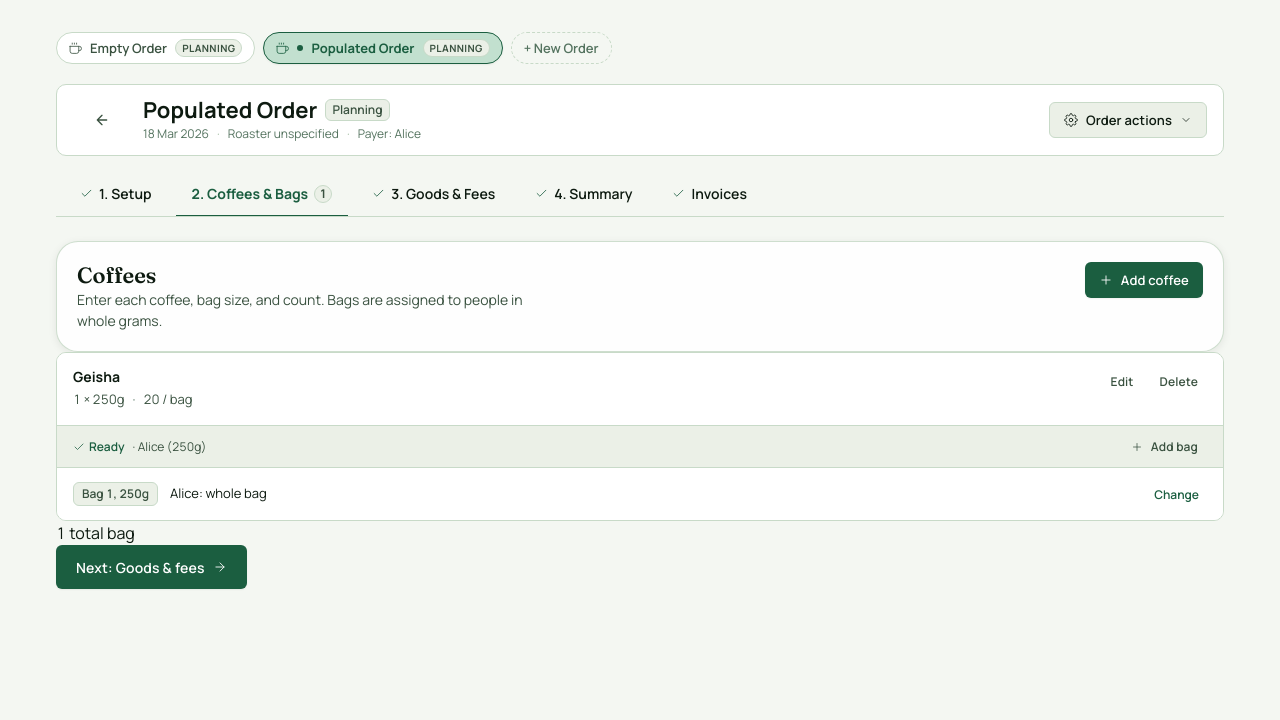
OrderPage component tests › BUG-ORD-12: falls back from invoices tab to coffees tab when switching to an empty order
Click the tab with class "order-section-tab" showing "Invoices" at (710, 195), box [656,172,763,217]
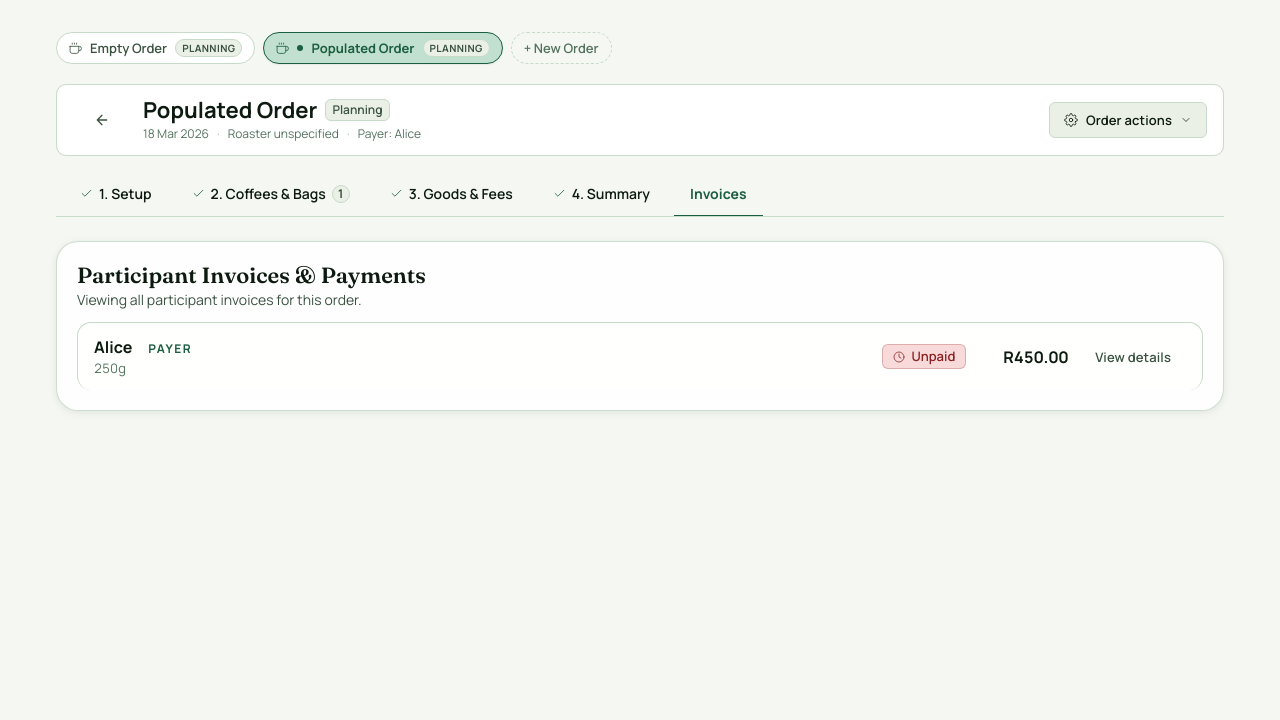
Expected: the tab with class "order-section-tab" reads "Invoices", [674,172,763,216]
Click the tab with class "order-tab-chip" showing "Empty Order Planning" at (156, 48), box [56,32,256,64]
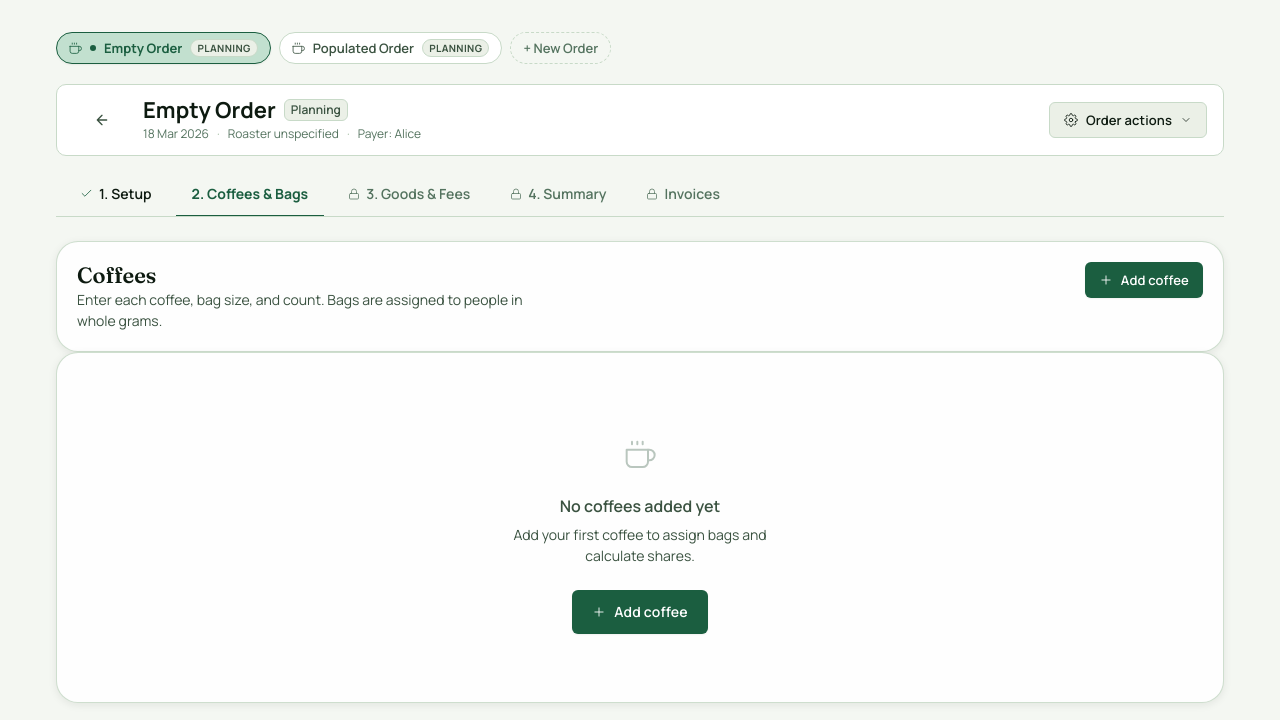
Expected: the tab with class "order-section-tab" shows "Coffees & Bags", [176,172,324,216]
Result: the heading with class "order-header-title" reads "Empty Order" at [143,95,276,125]
